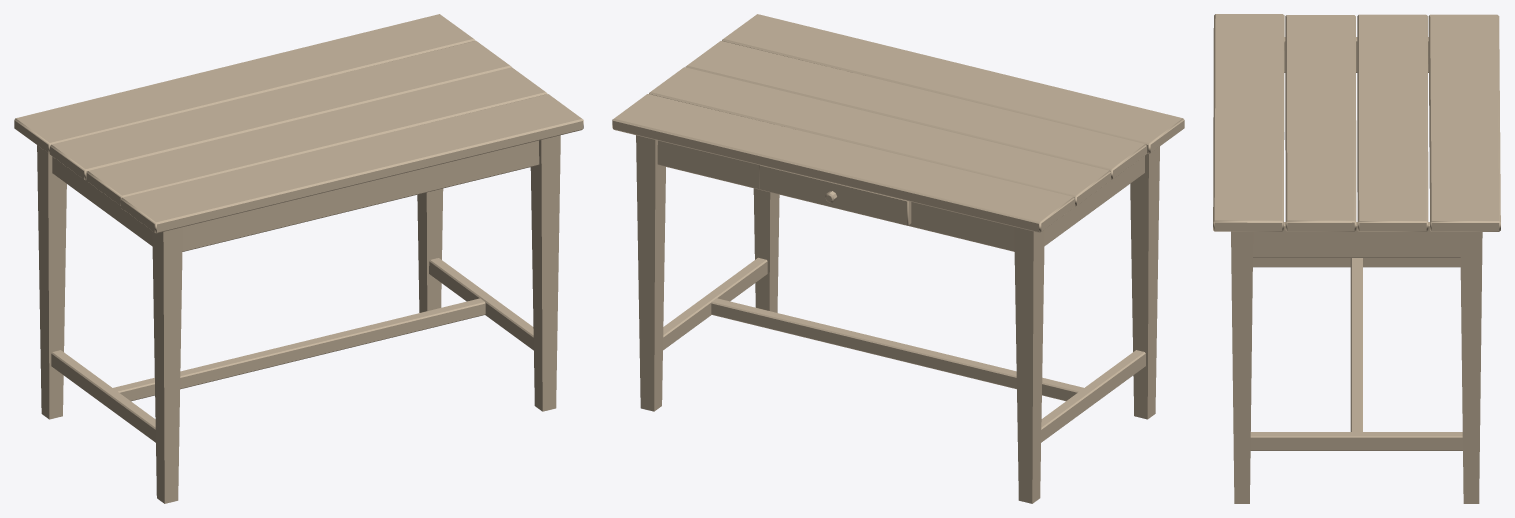
The model's file is table.glb.
3 renders of one model, left to right at view 1: azimuth 30°, elevation 25°; view 2: azimuth 150°, elevation 25°; view 3: azimuth 270°, elevation 25°, orthographic.
Parts seen in each view (by area): view 1: static; view 2: static; view 3: static.
Boxes of the visible parts, box(x1,y1,x2,y2) form: static: box(14, 14, 583, 503); static: box(612, 14, 1184, 503); static: box(1213, 14, 1500, 503).
Size of the model in its own units: 1.2 by 0.785 by 0.703.
